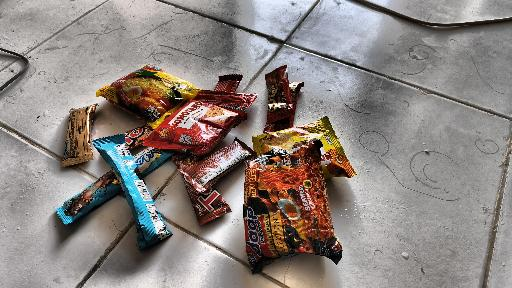chocho: (260, 68, 296, 120)
dilan: (88, 134, 171, 250)
indomie: (92, 62, 194, 122)
mie sedap: (235, 151, 345, 267)
momotaro: (143, 89, 246, 153)
top: (174, 149, 246, 227), (60, 103, 98, 165)
